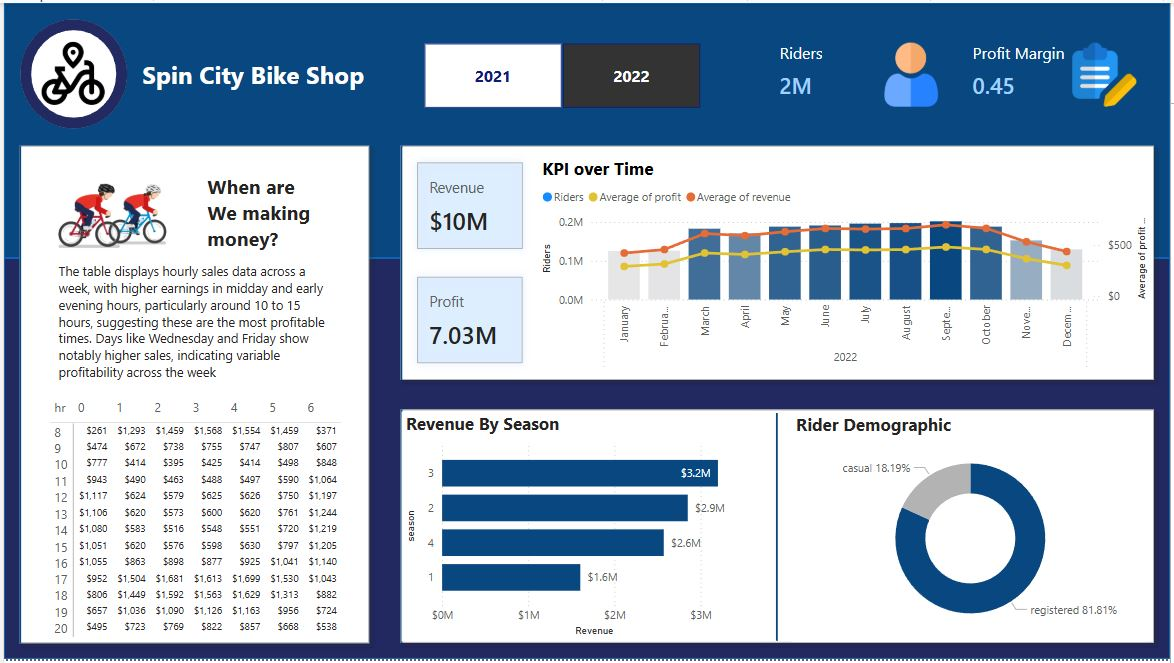

The dashboard page shown, as its layout file describes it:
{"tool":"powerbi","page":{"name":"Page 1","canvas":[1280,720],"ordinal":0},"visuals":[{"type":"shape","box":[0,280,1280,440],"z":0},{"type":"shape","box":[0,0,1280,280],"z":1000},{"type":"cardVisual","fields":{"Data":["Sum(Query1.revenue)"]},"box":[418.6,140,861.4,291.4],"z":2000},{"type":"cardVisual","fields":{"Data":["Sum(Query1.revenue)"]},"box":[0,140,418.8,580],"z":3000},{"type":"cardVisual","fields":{"Data":["Sum(Query1.revenue)"]},"box":[418.6,430,861.4,290],"z":4000},{"type":"cardVisual","fields":{"Data":["Sum(Query1.revenue)"]},"box":[28.7,158.7,186,121.3],"z":5000},{"type":"pivotTable","fields":{"Values":["Avg(Query1.revenue)"],"Columns":["Query1.weekday"],"Rows":["Query1.hr"]},"box":[45.4,430,336.9,271.5],"z":6000},{"type":"textbox","box":[217.7,180.9,135.3,96],"z":7000},{"type":"textbox","box":[55.6,280,315.6,150],"z":8000},{"type":"lineClusteredColumnComboChart","title":"KPI over Time","fields":{"Category":["Query1.dteday.Variation.Date Hierarchy.Year","Query1.dteday.Variation.Date Hierarchy.Month","Query1.dteday.Variation.Date Hierarchy.Day"],"Y":["Sum(Query1.riders)"],"Y2":["Avg(Query1.profit)","Avg(Query1.revenue)"]},"box":[586,169,675,242],"z":9000},{"type":"clusteredBarChart","title":"Revenue By Season","fields":{"Category":["Query1.season"],"Y":["Sum(Query1.revenue)"]},"box":[437,449,396,252],"z":10000},{"type":"donutChart","title":"Rider Demographic","fields":{"Category":["Query1.rider_type"],"Y":["Sum(Query1.riders)"]},"box":[864,450,393,251],"z":11000},{"type":"shape","box":[833,450,31,250],"z":12000},{"type":"cardVisual","title":"KPI over Time","fields":{"Data":["Sum(Query1.revenue)","Sum(Query1.profit)"]},"box":[437.7,159.2,148.5,253.1],"z":13000},{"type":"cardVisual","fields":{"Data":["Sum(Query1.riders)","Query1.Profit margin"]},"box":[833.8,17.5,427.5,122.5],"z":14000},{"type":"shape","box":[17.7,17.9,117.3,120],"z":15000},{"type":"image","box":[34.6,36.2,83.3,83.3],"z":16000},{"type":"textbox","box":[147.5,55,271.2,50],"z":17000},{"type":"slicer","fields":{"Values":["Query1.Year"]},"box":[437.5,40,350,80],"z":18000}]}

Visuals, with their boxes in screenshot pixels (x1, y1, x2, y2), scaled from the page's 1280x720 canvas onto the 1174x663 screenshot:
shape: 0,258,1173,662
shape: 0,0,1173,258
cardVisual - Sum(Query1.revenue): 384,129,1173,397
cardVisual - Sum(Query1.revenue): 0,129,384,662
cardVisual - Sum(Query1.revenue): 384,396,1173,662
cardVisual - Sum(Query1.revenue): 26,146,197,258
pivotTable - Avg(Query1.revenue) x Query1.weekday: 42,396,351,646
textbox: 200,167,324,255
textbox: 51,258,340,396
"KPI over Time" lineClusteredColumnComboChart: 537,156,1157,378
"Revenue By Season" clusteredBarChart: 401,413,764,646
"Rider Demographic" donutChart: 792,414,1153,646
shape: 764,414,792,645
"KPI over Time" cardVisual: 401,147,538,380
cardVisual - Sum(Query1.riders) x Query1.Profit margin: 765,16,1157,129
shape: 16,16,124,127
image: 32,33,108,110
textbox: 135,51,384,97
slicer - Query1.Year: 401,37,722,110
